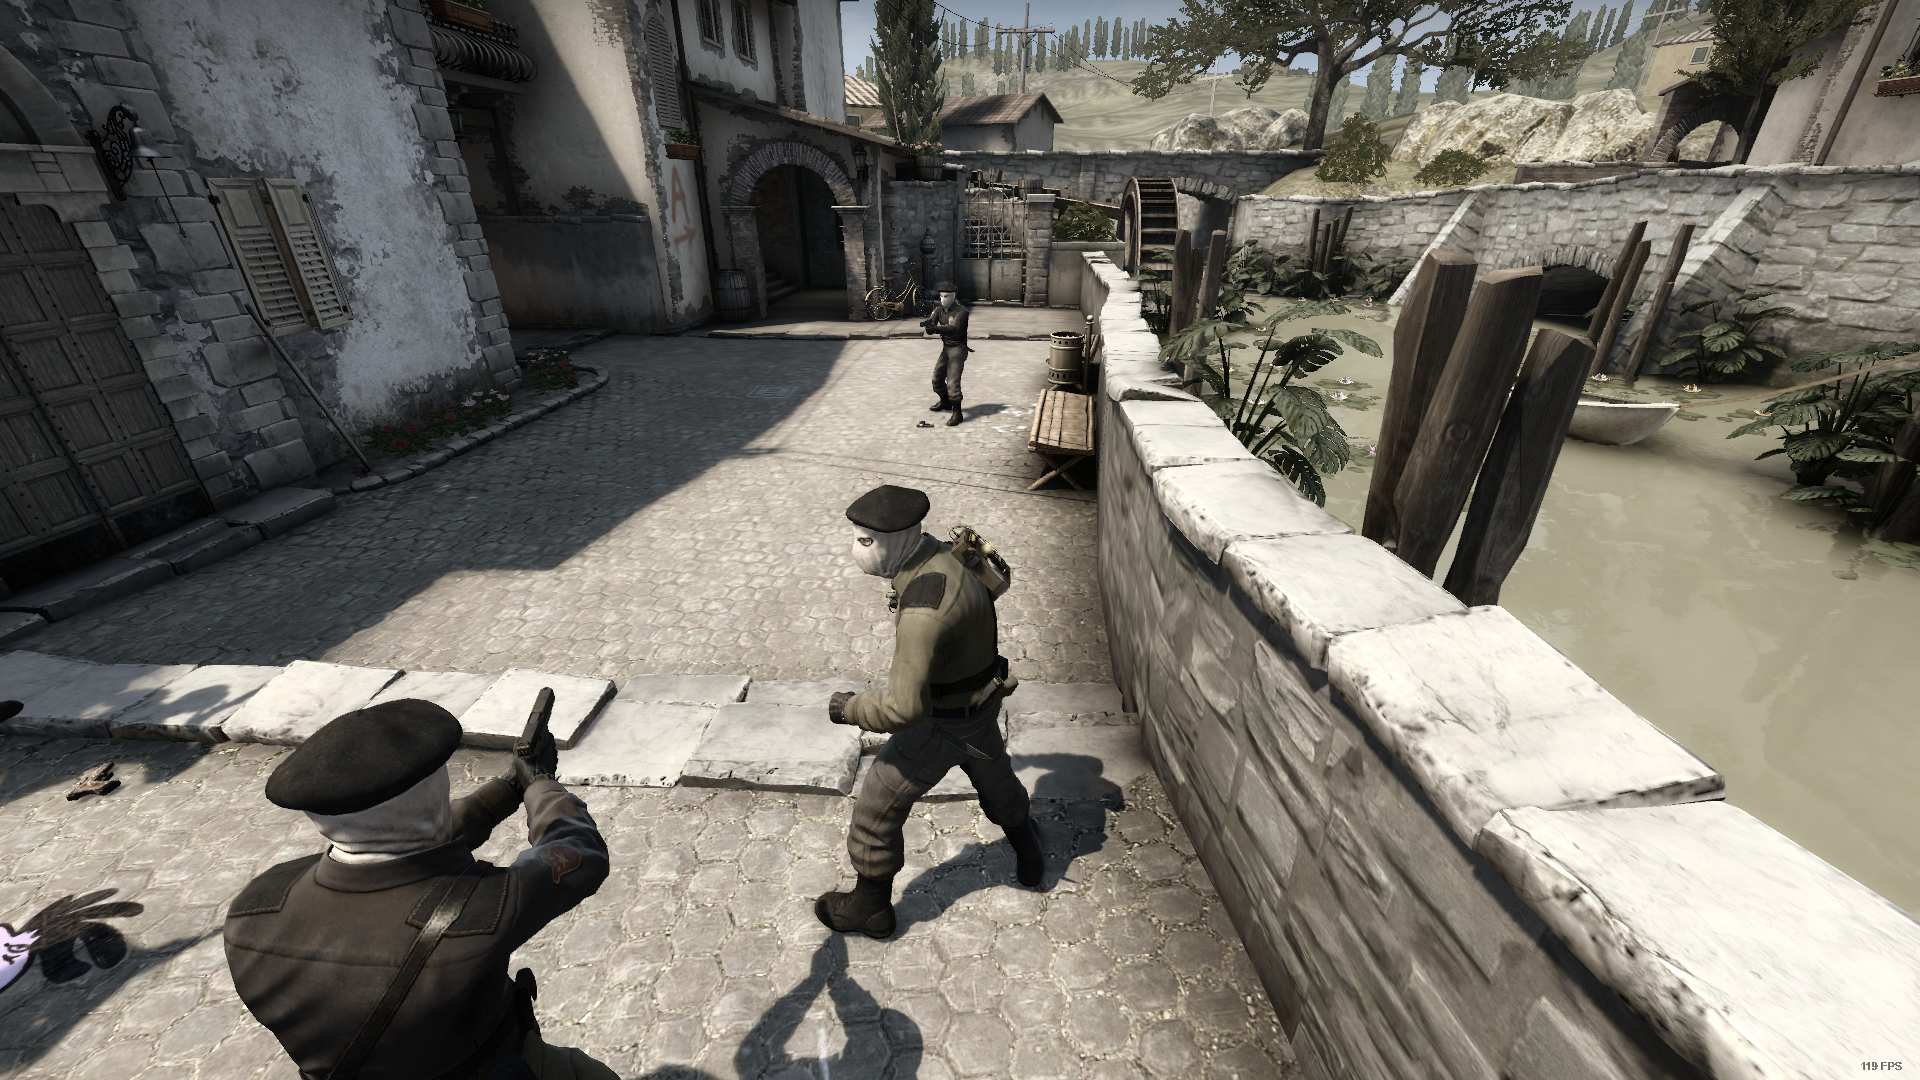t: (223, 700, 611, 1080), (815, 487, 1044, 944), (927, 282, 969, 426)
